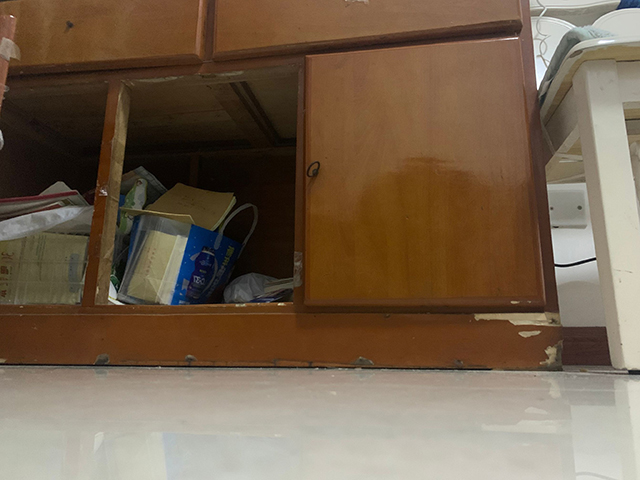cabinet: (280, 1, 557, 367)
